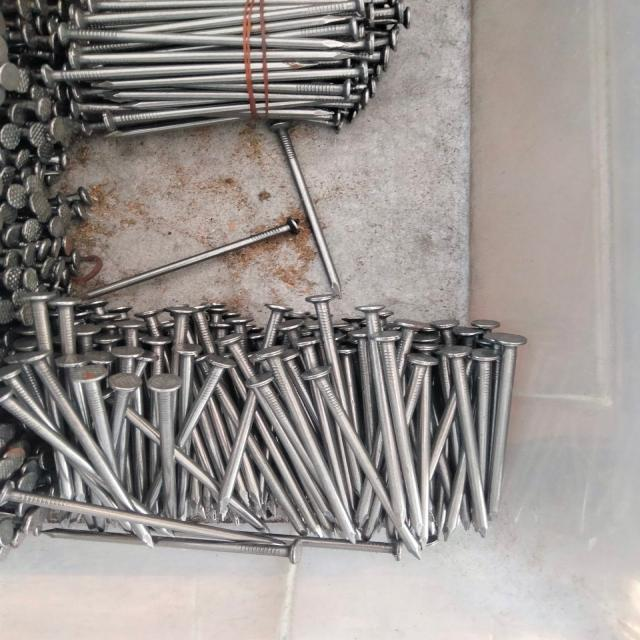3x10 nail: (364, 324, 531, 558), (0, 478, 335, 561), (54, 206, 314, 310), (257, 109, 368, 302)
